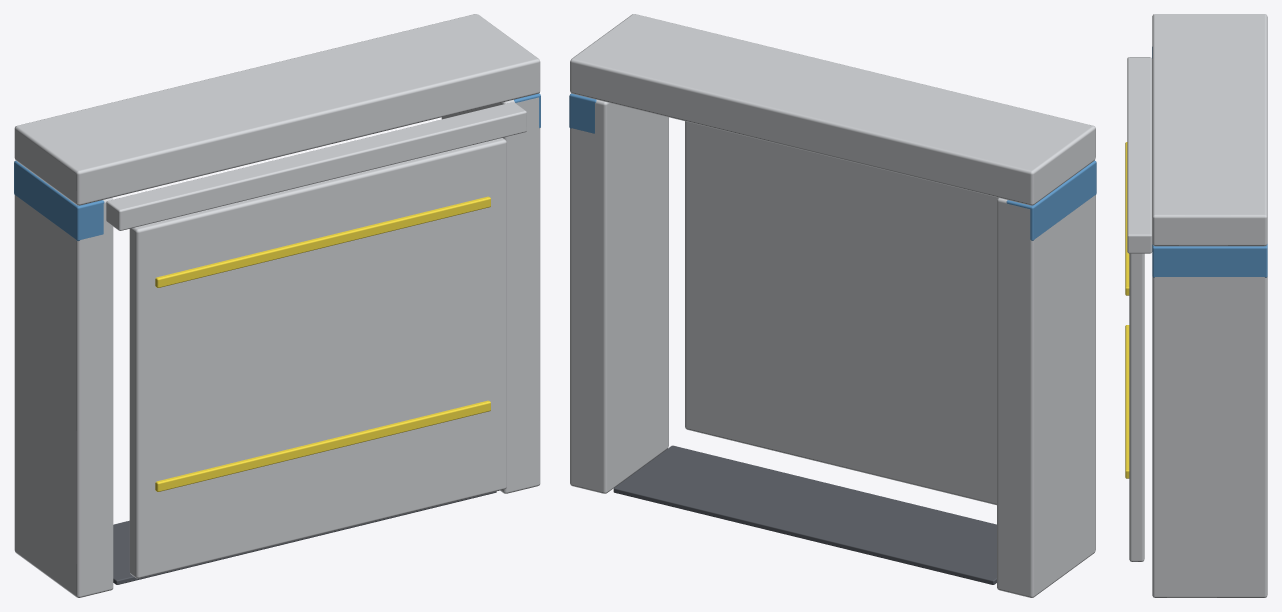
The model's file is oven-end-door-module.glb.
The picture shows the model from 3 angles, left to right: view 1: azimuth 30°, elevation 25°; view 2: azimuth 150°, elevation 25°; view 3: azimuth 270°, elevation 25°; orthographic projection. The views are drawn at different scales.
Parts seen in each view (by area): view 1: door-oven/steel, oven-end-door-module, door-oven/yellow; view 2: oven-end-door-module, door-oven/steel; view 3: oven-end-door-module, door-oven/steel, door-oven/yellow.
Boxes of the visible parts, bbox=[...] form: door-oven/steel: bbox=[129, 138, 506, 578]; oven-end-door-module: bbox=[14, 14, 540, 597]; door-oven/yellow: bbox=[155, 196, 490, 491]; oven-end-door-module: bbox=[569, 14, 1096, 597]; door-oven/steel: bbox=[685, 121, 998, 505]; oven-end-door-module: bbox=[1127, 14, 1267, 597]; door-oven/steel: bbox=[1129, 253, 1144, 561]; door-oven/yellow: bbox=[1125, 142, 1129, 478].
Bounding box in the file's own units: 5 × 4.4 × 1.48.
